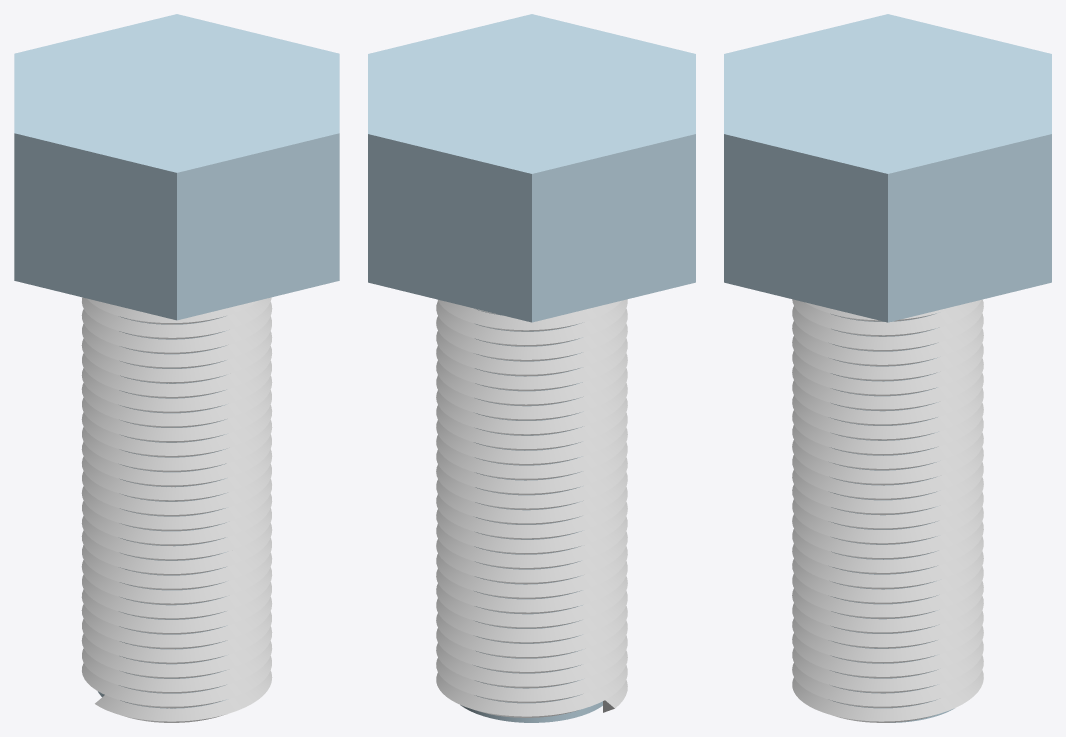
The model's file is bolt.glb.
The picture shows the model from 3 angles, left to right: view 1: azimuth 30°, elevation 25°; view 2: azimuth 150°, elevation 25°; view 3: azimuth 270°, elevation 25°; orthographic projection.
Visible parts, largest first — view 1: Part 1, Part 2; view 2: Part 1, Part 2; view 3: Part 1, Part 2.
Boxes of the visible parts, x1,y1,x2,y2 form: Part 1: (14,14,339,708); Part 2: (81,297,272,722); Part 1: (368,14,695,722); Part 2: (436,299,627,717); Part 1: (724,14,1051,722); Part 2: (792,299,983,722).
Size of the model in its own units: 0.0293 by 0.0514 by 0.0254.
